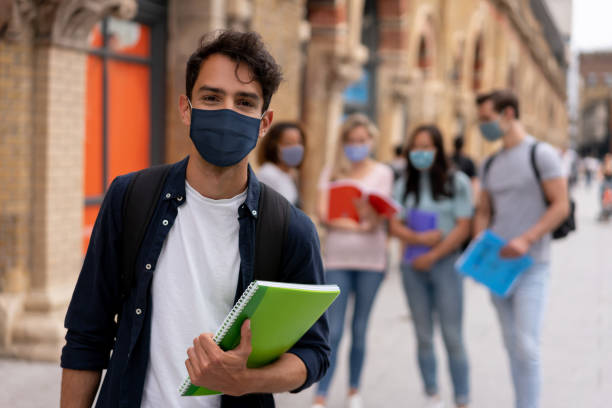with mask: (183, 46, 279, 169), (264, 126, 312, 171), (335, 120, 383, 165), (401, 129, 449, 174), (469, 99, 517, 144)
